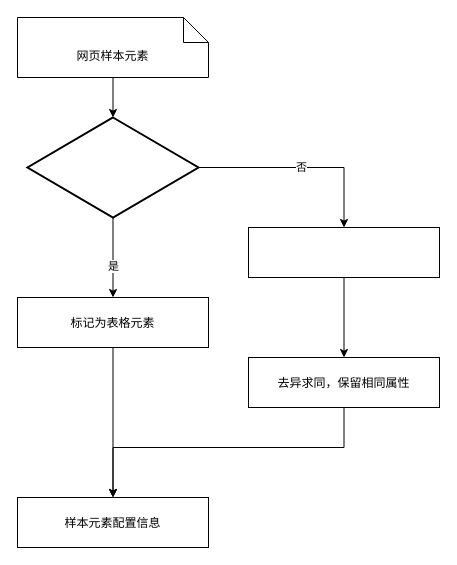
The diagram is 457 pixels wide and 565 high, and some of its shapes have lost their labels. Here are the shapes that lost their labels. From the top down, the box of each, then its label:
(26, 116, 199, 218): 是否表格元素
(248, 226, 440, 278): 与网页内其他元素对 比XPath路径相似度
